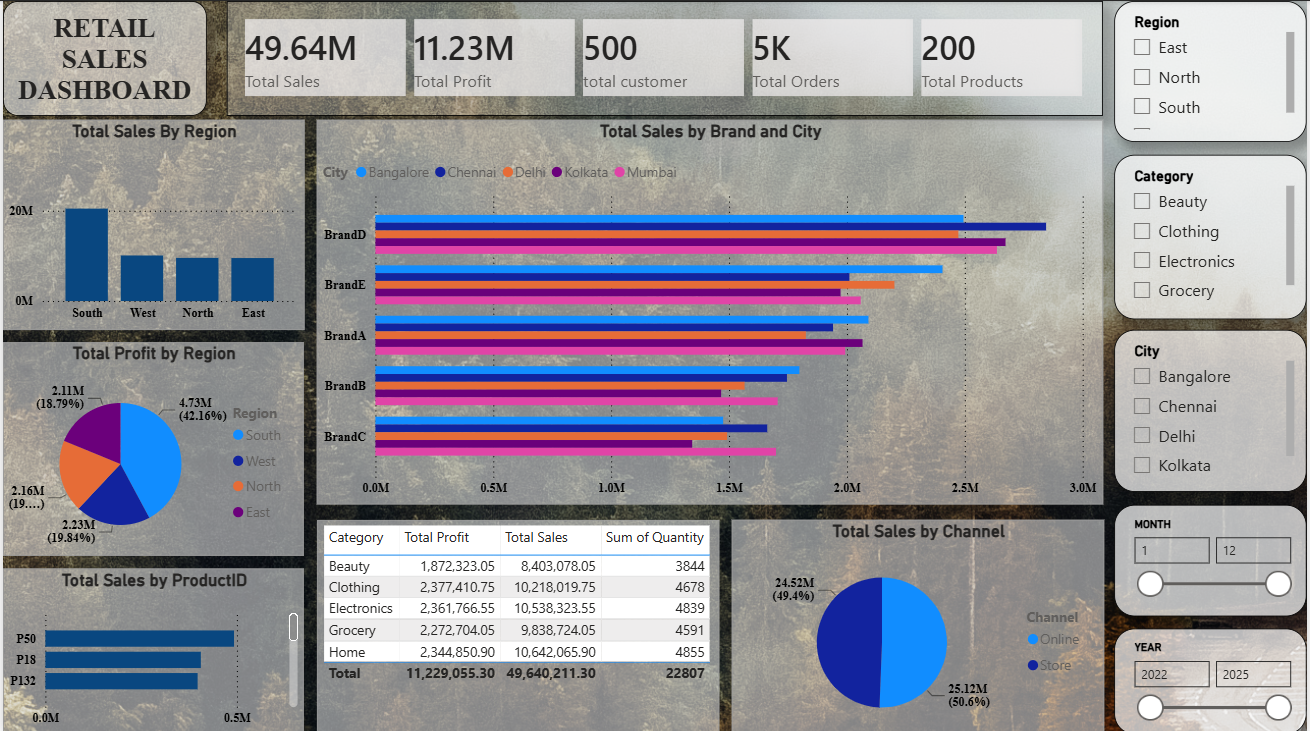

The dashboard page shown, as its layout file describes it:
{"tool":"powerbi","page":{"name":"Overview ","canvas":[1280,720],"ordinal":1},"visuals":[{"type":"cardVisual","fields":{"Data":["Fact Sales.Total Sales","Fact Sales.Total Profit","Fact Sales.total customer","Fact Sales.Total Orders","Dim Product.Total Products"]},"box":[220,0,860,112.9],"z":0},{"type":"slicer","fields":{"Values":["Dim Customer.Region"]},"box":[1090.8,0,189,138.7],"z":1000},{"type":"slicer","fields":{"Values":["Dim Product.Category"]},"box":[1090.8,150.9,189,162],"z":2000},{"type":"slicer","fields":{"Values":["Dim Customer.City"]},"box":[1090.8,322.7,189,159.5],"z":3000},{"type":"slicer","fields":{"Values":["Dim Calender.MONTH"]},"box":[1090.8,494.5,189,109.2],"z":4000},{"type":"textbox","box":[0,0,200,112.9],"z":5000},{"type":"slicer","fields":{"Values":["Dim Calender.YEAR"]},"box":[1090.8,616,189,104.3],"z":6000},{"type":"clusteredColumnChart","title":"Total Sales By Region","fields":{"Category":["Dim Customer.Region"],"Y":["Sum(Fact Sales.Sales)"]},"box":[0,116.6,295.7,206.1],"z":7000},{"type":"pieChart","fields":{"Category":["Dim Customer.Region"],"Y":["Fact Sales.Total Profit"]},"box":[0,334.6,295.4,209.2],"z":8000},{"type":"clusteredBarChart","fields":{"Category":["Dim Product.Brand"],"Series":["Dim Customer.City"],"Y":["Fact Sales.Total Sales"]},"box":[308,116.6,772.2,377.8],"z":9000},{"type":"tableEx","fields":{"Values":["Dim Product.Category","Fact Sales.Total Profit","Fact Sales.Total Sales","Sum(Fact Sales.Quantity)"]},"box":[308,509.2,395.1,211],"z":10000},{"type":"pieChart","fields":{"Category":["Dim Store.Channel"],"Y":["Fact Sales.Total Sales"]},"box":[715.6,508.9,365.6,211.1],"z":11000},{"type":"clusteredBarChart","fields":{"Category":["Dim Product.ProductID"],"Y":["Fact Sales.Total Sales"]},"box":[0,556.7,295.6,163.3],"z":12000}]}

Visuals, with their boxes in screenshot pixels (x1, y1, x2, y2), scaled from the page's 1280x720 canvas onto the 1310x731 screenshot:
cardVisual - Fact Sales.Total Sales x Fact Sales.Total Profit: box(225, 0, 1105, 115)
slicer - Dim Customer.Region: box(1116, 0, 1309, 141)
slicer - Dim Product.Category: box(1116, 153, 1309, 318)
slicer - Dim Customer.City: box(1116, 328, 1309, 490)
slicer - Dim Calender.MONTH: box(1116, 502, 1309, 613)
textbox: box(0, 0, 205, 115)
slicer - Dim Calender.YEAR: box(1116, 625, 1309, 730)
"Total Sales By Region" clusteredColumnChart: box(0, 118, 303, 328)
pieChart - Dim Customer.Region x Fact Sales.Total Profit: box(0, 340, 302, 552)
clusteredBarChart - Dim Product.Brand x Dim Customer.City: box(315, 118, 1106, 502)
tableEx - Dim Product.Category x Fact Sales.Total Profit: box(315, 517, 720, 730)
pieChart - Dim Store.Channel x Fact Sales.Total Sales: box(732, 517, 1107, 730)
clusteredBarChart - Dim Product.ProductID x Fact Sales.Total Sales: box(0, 565, 303, 730)
